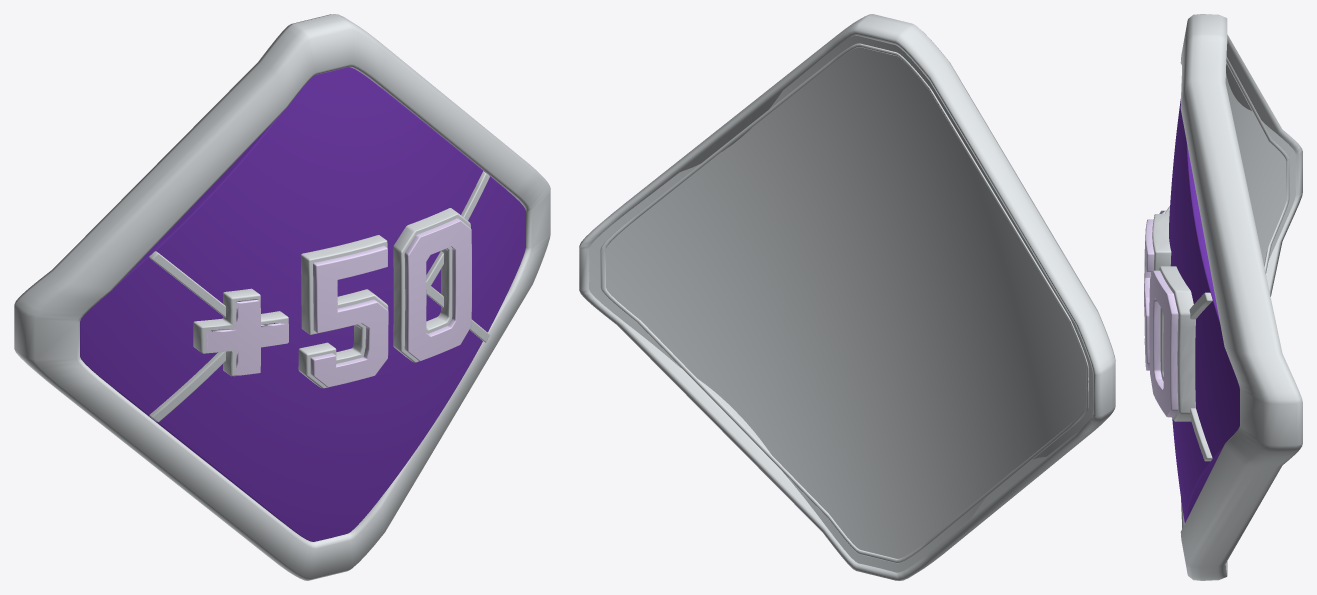
The model's file is plus-50-units.glb.
3 renders of one model, left to right at view 1: azimuth 30°, elevation 25°; view 2: azimuth 150°, elevation 25°; view 3: azimuth 270°, elevation 25°, orthographic.
Visible parts, largest first — view 1: acrylic_diamond_face_conforming_004, metal_diamond_frame_004, ivory_number_plus50_1_0_conforming, ivory_number_plus50_2_0_conforming, metal_number_plus50_1_0_conforming, metal_number_plus50_2_0_conforming, ivory_number_plus50_0_0_conforming, metal_diamond_divider_left1_conforming_004, metal_number_plus50_0_0_conforming, metal_diamond_divider_1_conforming_004; view 2: satin_diamond_back_conforming_004, metal_diamond_frame_004, satin_diamond_rear_border_004; view 3: metal_diamond_frame_004, acrylic_diamond_face_conforming_004, satin_diamond_back_conforming_004, ivory_number_plus50_2_0_conforming, metal_number_plus50_2_0_conforming, ivory_number_plus50_1_0_conforming, metal_number_plus50_1_0_conforming, satin_diamond_rear_border_004, metal_diamond_divider_1_conforming_004.
Boxes of the visible parts, x1,y1,x2,y2 form: acrylic_diamond_face_conforming_004: (80, 67, 525, 541); metal_diamond_frame_004: (14, 14, 550, 580); ivory_number_plus50_1_0_conforming: (310, 245, 388, 386); ivory_number_plus50_2_0_conforming: (404, 218, 471, 361); metal_number_plus50_1_0_conforming: (298, 235, 388, 388); metal_number_plus50_2_0_conforming: (393, 208, 470, 362); ivory_number_plus50_0_0_conforming: (206, 299, 288, 375); metal_diamond_divider_left1_conforming_004: (149, 251, 225, 422); metal_number_plus50_0_0_conforming: (193, 288, 288, 376); metal_diamond_divider_1_conforming_004: (426, 171, 489, 342); satin_diamond_back_conforming_004: (589, 36, 1092, 572); metal_diamond_frame_004: (579, 14, 1115, 580); satin_diamond_rear_border_004: (600, 43, 1088, 563); metal_diamond_frame_004: (1180, 14, 1302, 580); acrylic_diamond_face_conforming_004: (1169, 99, 1239, 523); satin_diamond_back_conforming_004: (1225, 73, 1295, 265); ivory_number_plus50_2_0_conforming: (1149, 270, 1178, 417); metal_number_plus50_2_0_conforming: (1158, 266, 1195, 421); ivory_number_plus50_1_0_conforming: (1144, 219, 1154, 370); metal_number_plus50_1_0_conforming: (1151, 214, 1171, 274); satin_diamond_rear_border_004: (1226, 57, 1289, 273); metal_diamond_divider_1_conforming_004: (1189, 292, 1212, 461).
Bounding box in the file's own units: 2 × 2 × 0.527.
